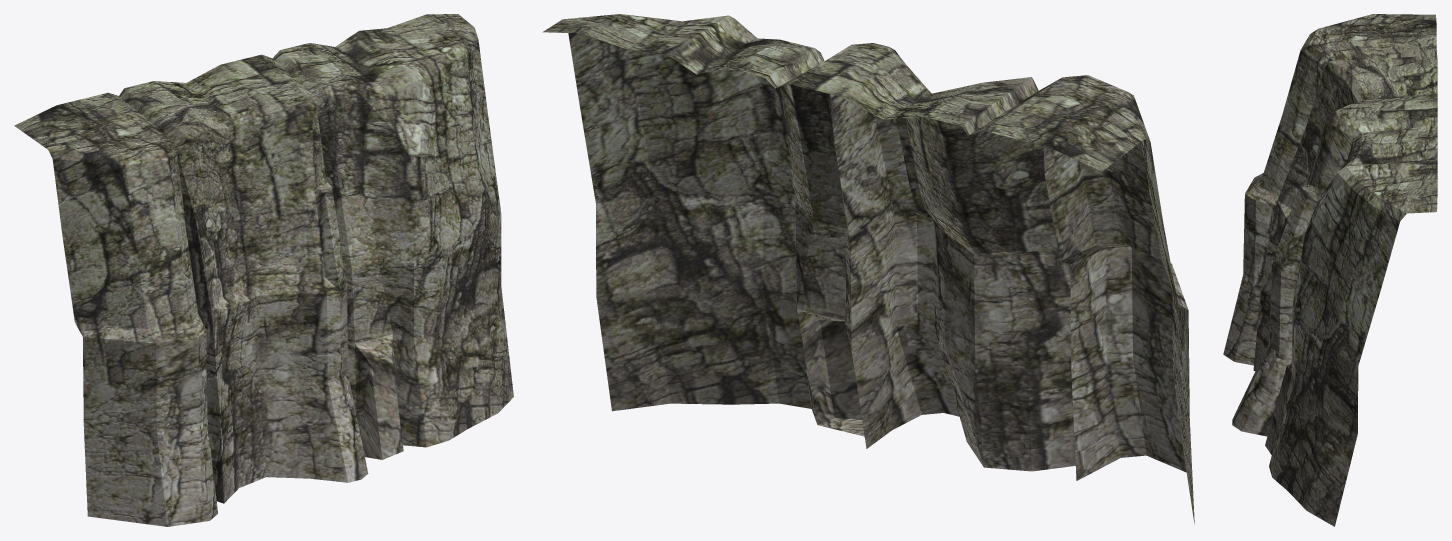
Rendered from temp_cliffs_a_0.glb.
The picture shows the model from 3 angles, left to right: view 1: azimuth 30°, elevation 25°; view 2: azimuth 150°, elevation 25°; view 3: azimuth 270°, elevation 25°; orthographic projection. The views are drawn at different scales.
Visible parts, largest first — view 1: temp_cliffs_a_0; view 2: temp_cliffs_a_0; view 3: temp_cliffs_a_0.
Boxes of the visible parts, <box> form: temp_cliffs_a_0: <box>14,14,513,526</box>; temp_cliffs_a_0: <box>542,14,1194,524</box>; temp_cliffs_a_0: <box>1223,14,1437,526</box>.
Bounding box in the file's own units: 10.99 × 8.25 × 4.99.
Materials: 1 (1 with a texture image).
